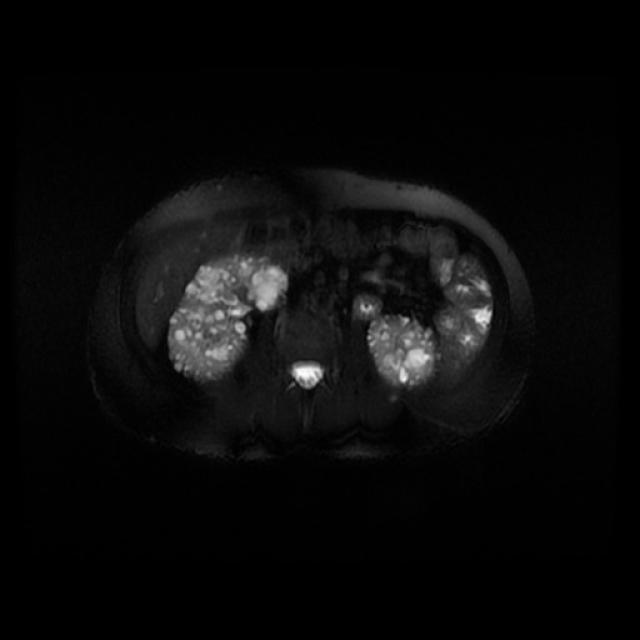sag: (167, 255, 286, 378)
sol: (368, 315, 439, 392)
